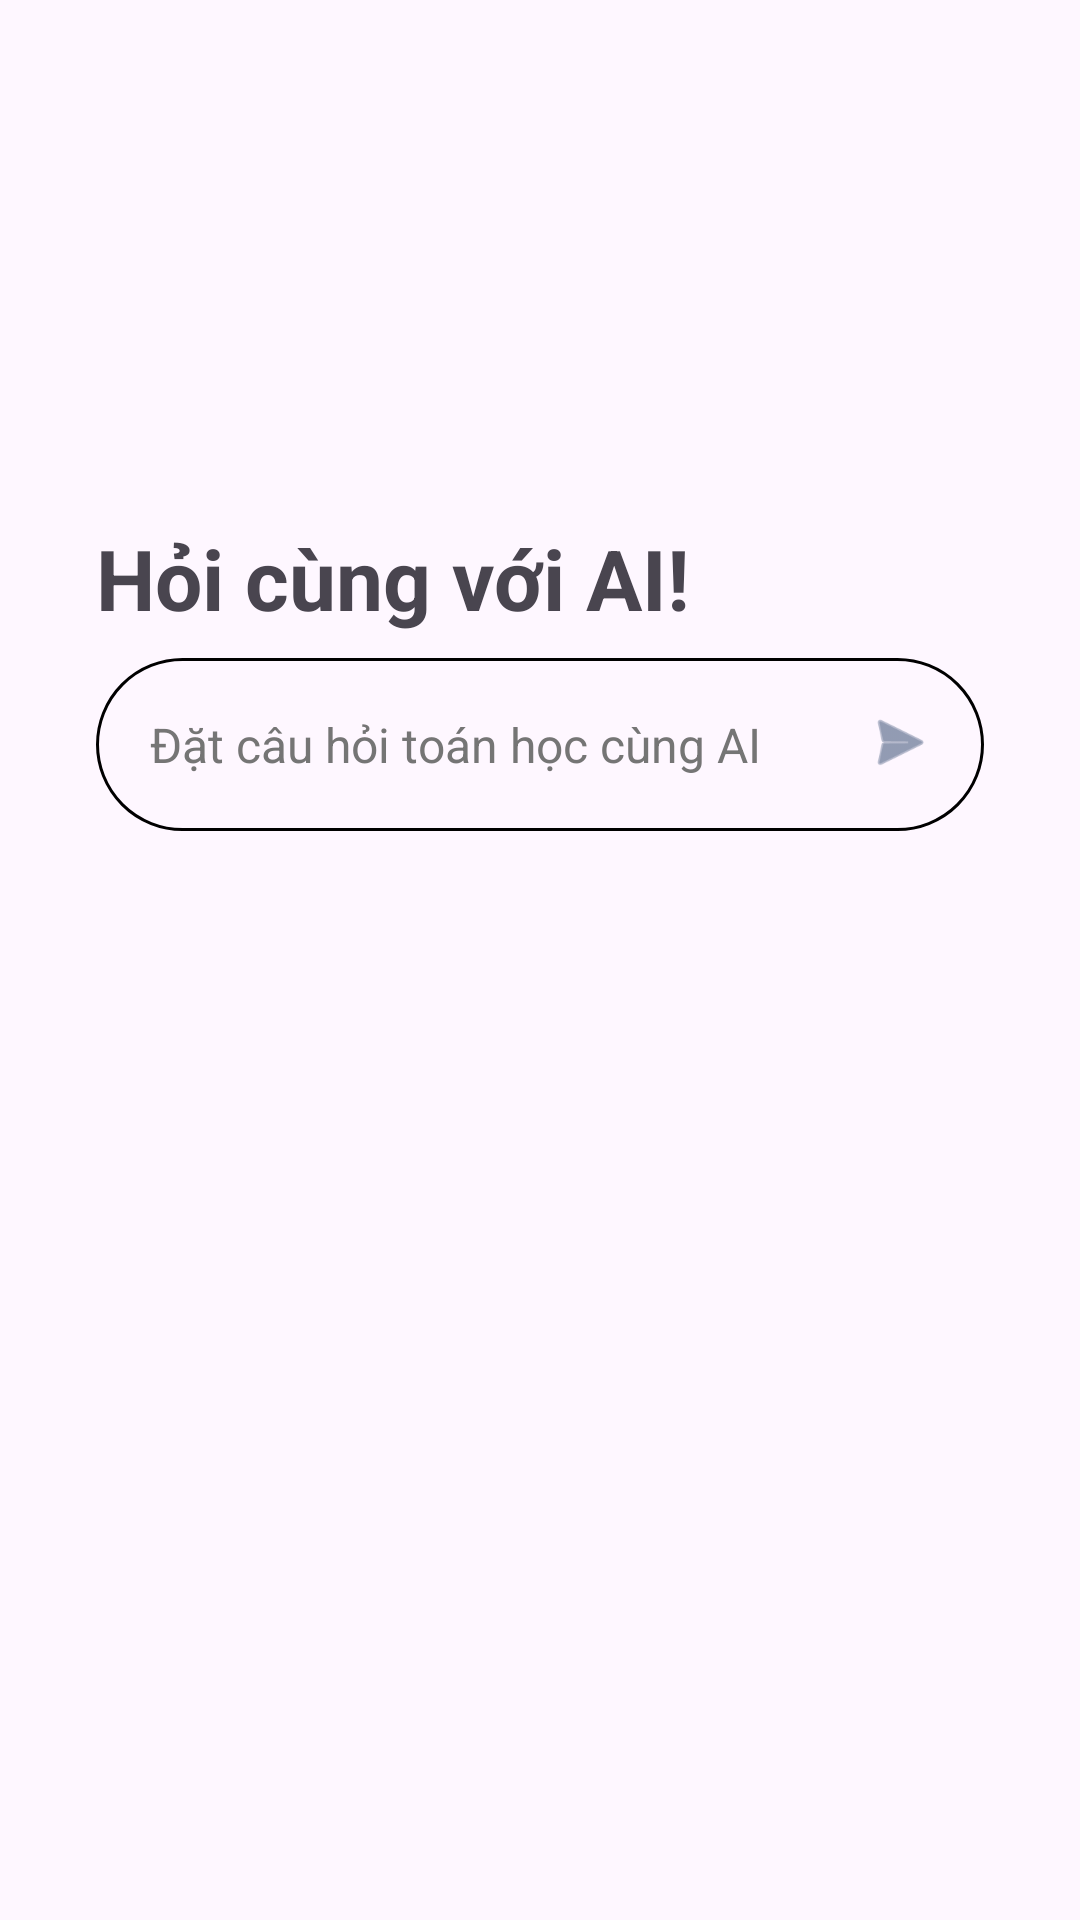

Named icons in this screenshot (1080*1920) and their centers, (x=x, y=y):
send: (x=901, y=742)
